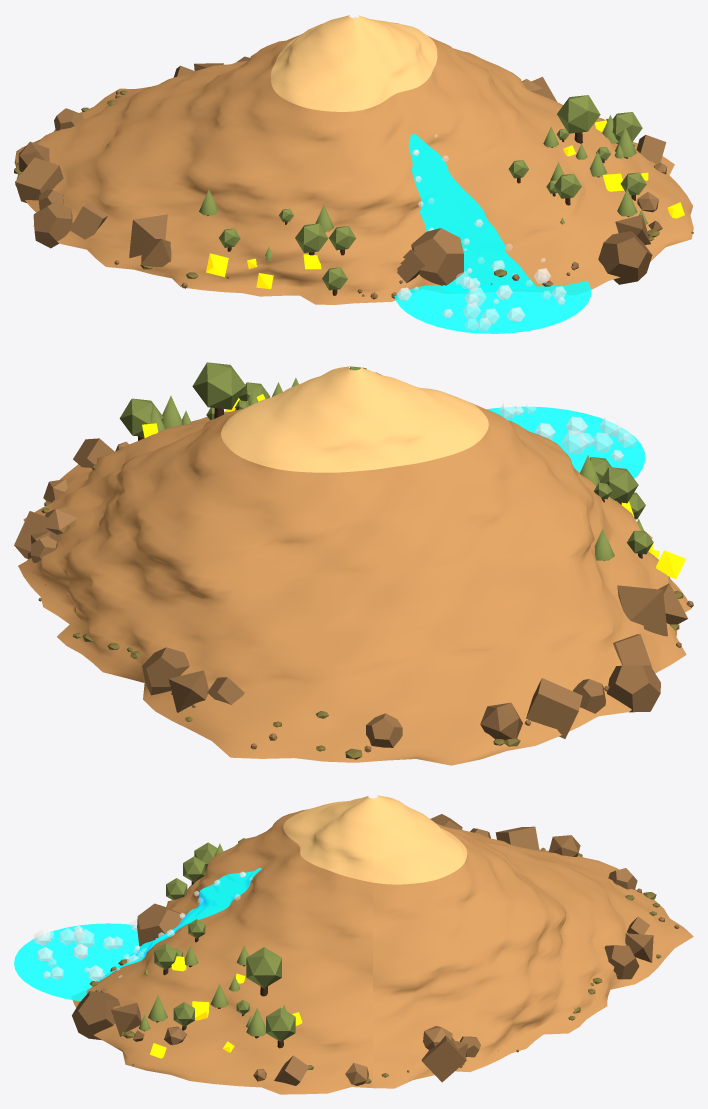
Rendered from montana_5.glb.
3 renders of one model, top to bottom at view 1: azimuth 30°, elevation 25°; view 2: azimuth 150°, elevation 25°; view 3: azimuth 270°, elevation 25°, orthographic. The views are drawn at different scales.
Visible parts, largest first — view 1: tierra, cima, poza_agua, rio, copa (×4), roca_2, roca_10, roca_20, roca_5, roca_0, roca_7, roca_8 (+4 smaller); view 2: tierra, cima, poza_agua, copa (×3), roca_20, roca_5, roca_0, roca_15, roca_9, roca_22, roca_12, roca_24 (+6 smaller); view 3: tierra, cima, poza_agua, rio, copa (×2), roca_10, roca_2, roca_24, roca_15, roca_20, roca_17, roca_22 (+2 smaller).
Boxes of the visible parts, x1,y1,x2,y2 form: tierra: [14, 23, 693, 304]; cima: [271, 15, 437, 111]; poza_agua: [394, 281, 591, 333]; rio: [408, 133, 535, 287]; copa (×4): [295, 95, 642, 252]; roca_2: [411, 228, 463, 285]; roca_10: [598, 231, 652, 284]; roca_20: [15, 157, 63, 202]; roca_5: [33, 201, 72, 248]; roca_0: [129, 214, 167, 257]; roca_7: [69, 202, 107, 239]; roca_8: [141, 239, 171, 266]; tierra: [18, 402, 691, 765]; cima: [221, 366, 488, 472]; poza_agua: [487, 406, 645, 478]; copa (×3): [119, 362, 638, 503]; roca_20: [526, 678, 582, 738]; roca_5: [607, 665, 660, 712]; roca_0: [617, 585, 667, 636]; roca_15: [142, 647, 189, 695]; roca_9: [480, 702, 522, 740]; roca_22: [168, 670, 208, 712]; roca_12: [366, 713, 402, 747]; roca_24: [14, 511, 70, 558]; tierra: [72, 809, 693, 1094]; cima: [283, 795, 467, 884]; poza_agua: [14, 923, 138, 1001]; rio: [98, 868, 261, 980]; copa (×2): [246, 947, 295, 1041]; roca_10: [72, 991, 120, 1039]; roca_2: [137, 903, 184, 946]; roca_24: [421, 1035, 466, 1082]; roca_15: [604, 945, 639, 979]; roca_20: [495, 826, 539, 850]; roca_17: [111, 1002, 141, 1036]; roca_22: [625, 933, 653, 962].
Bounding box in the file's own units: 32.52 × 10.68 × 35.99.
